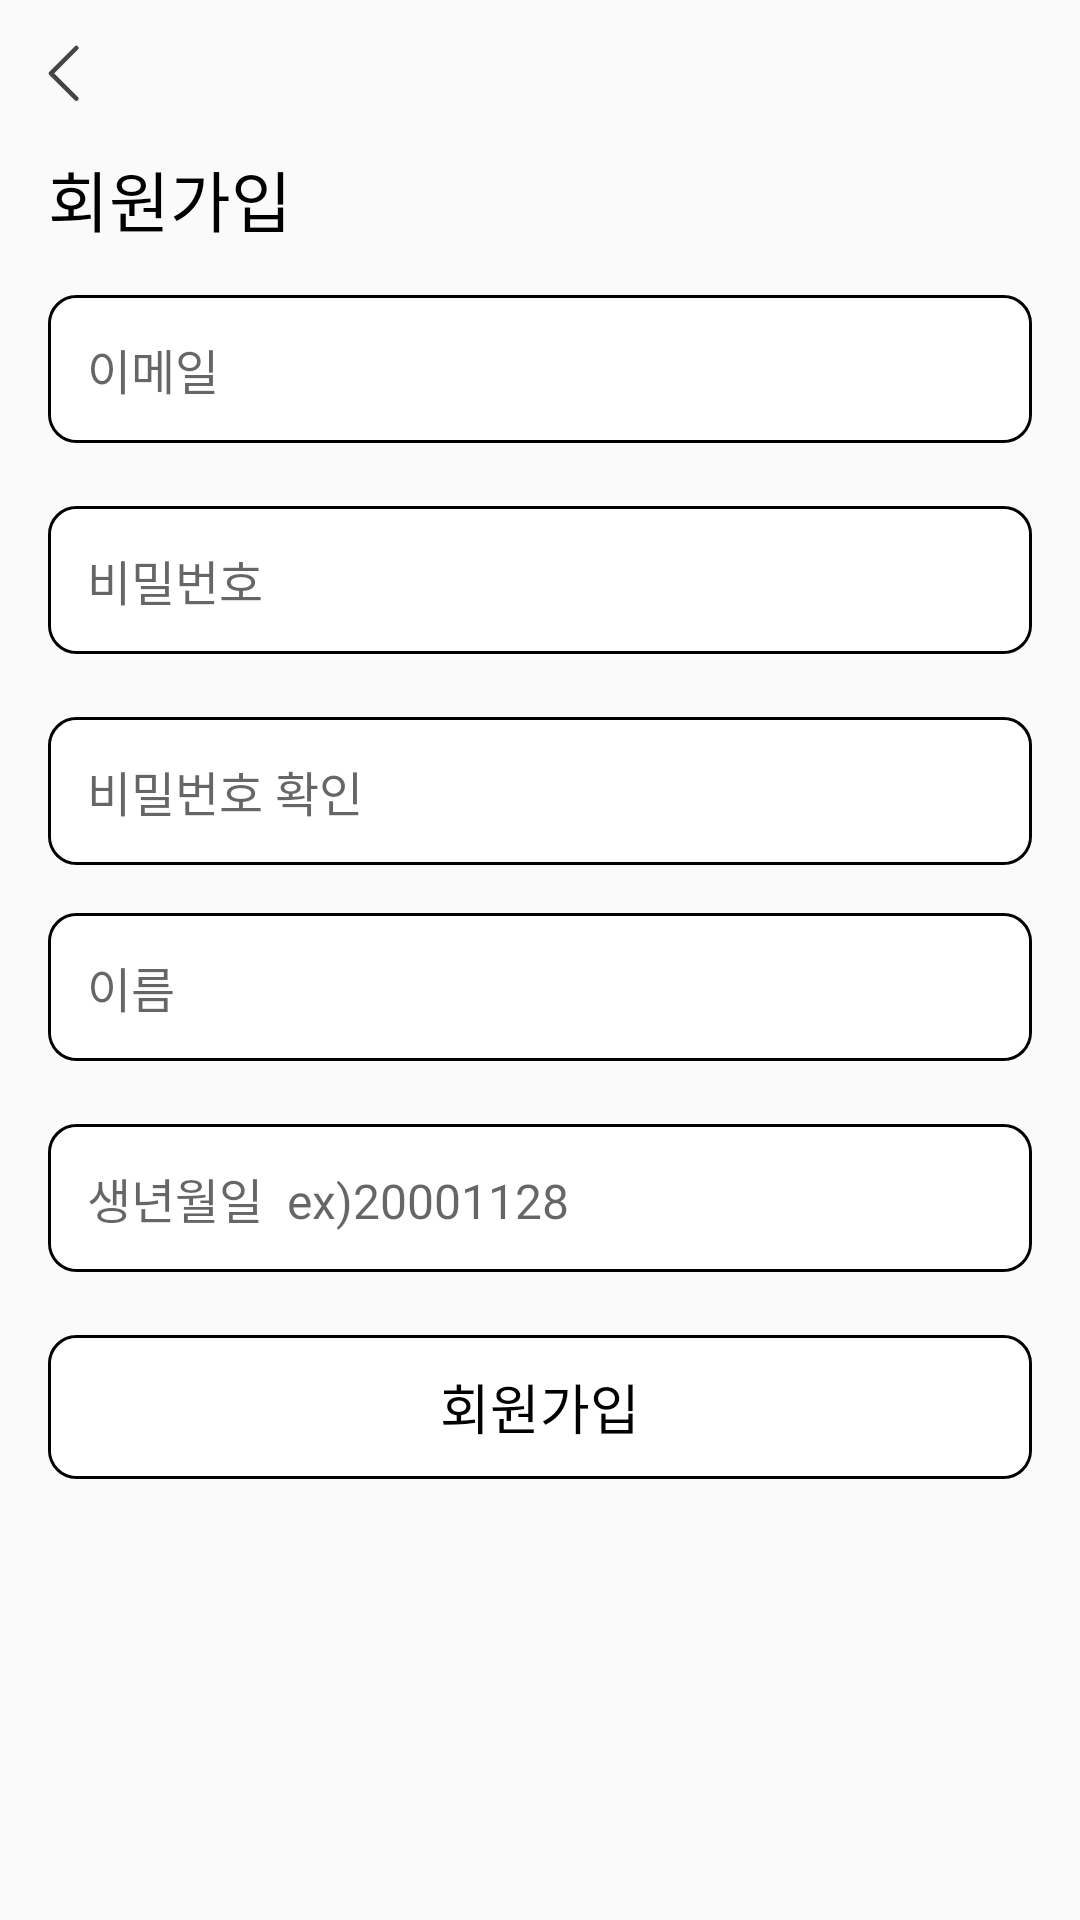

Named icons in this screenshot (1080w x 1920h) and their bounding boxes, rect(x1, y1, x2, y2):
back: rect(48, 45, 79, 101)
